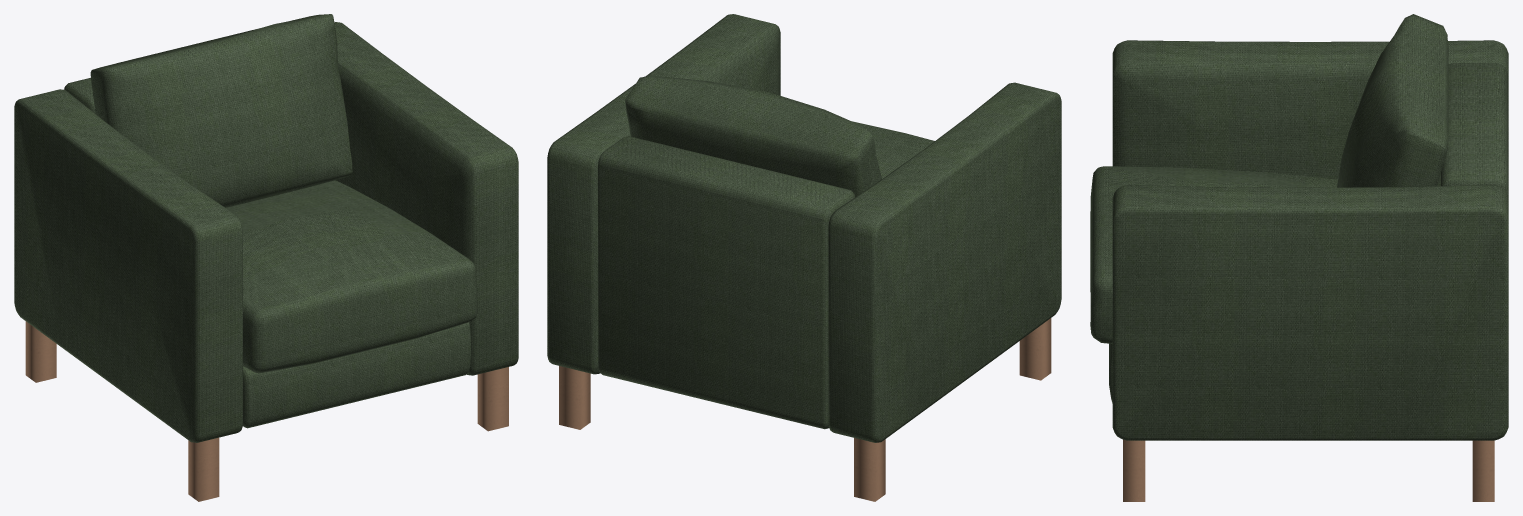
Rendered from chair3.gltf.
The picture shows the model from 3 angles, left to right: view 1: azimuth 30°, elevation 25°; view 2: azimuth 150°, elevation 25°; view 3: azimuth 270°, elevation 25°; orthographic projection. The views are drawn at different scales.
Visible parts, largest first — view 1: Chair Karlstad; view 2: Chair Karlstad; view 3: Chair Karlstad.
Boxes of the visible parts, x1,y1,x2,y2 form: Chair Karlstad: (14,14,518,501); Chair Karlstad: (547,14,1061,501); Chair Karlstad: (1090,14,1508,501).
Bounding box in the file's own units: 0.8338 × 0.8103 × 0.8688.
2 materials, 2 textured.
